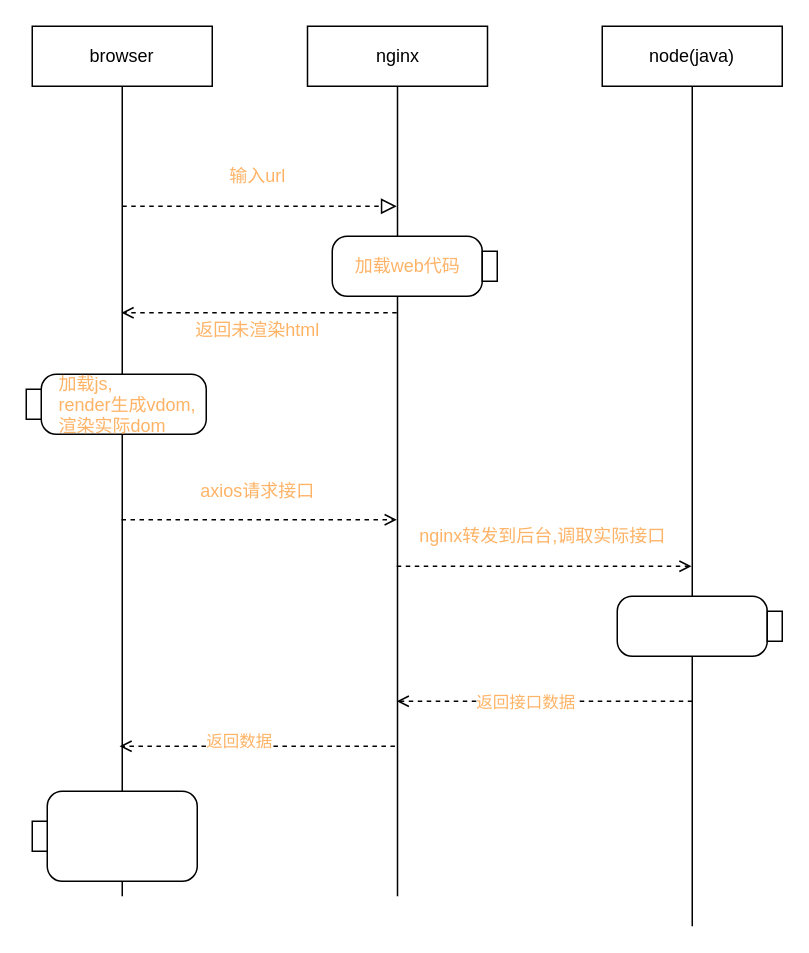
This 809x953 diagram has some shape labels left out. The shapes that lost their labels are listed below. From the top down, each one's centre as x and y in pixels, then its label:
(x=699, y=625): 执行后台, 加载数据库
(x=114, y=835): 获取数据, 前端再生成vdom, 再渲染实际dom
